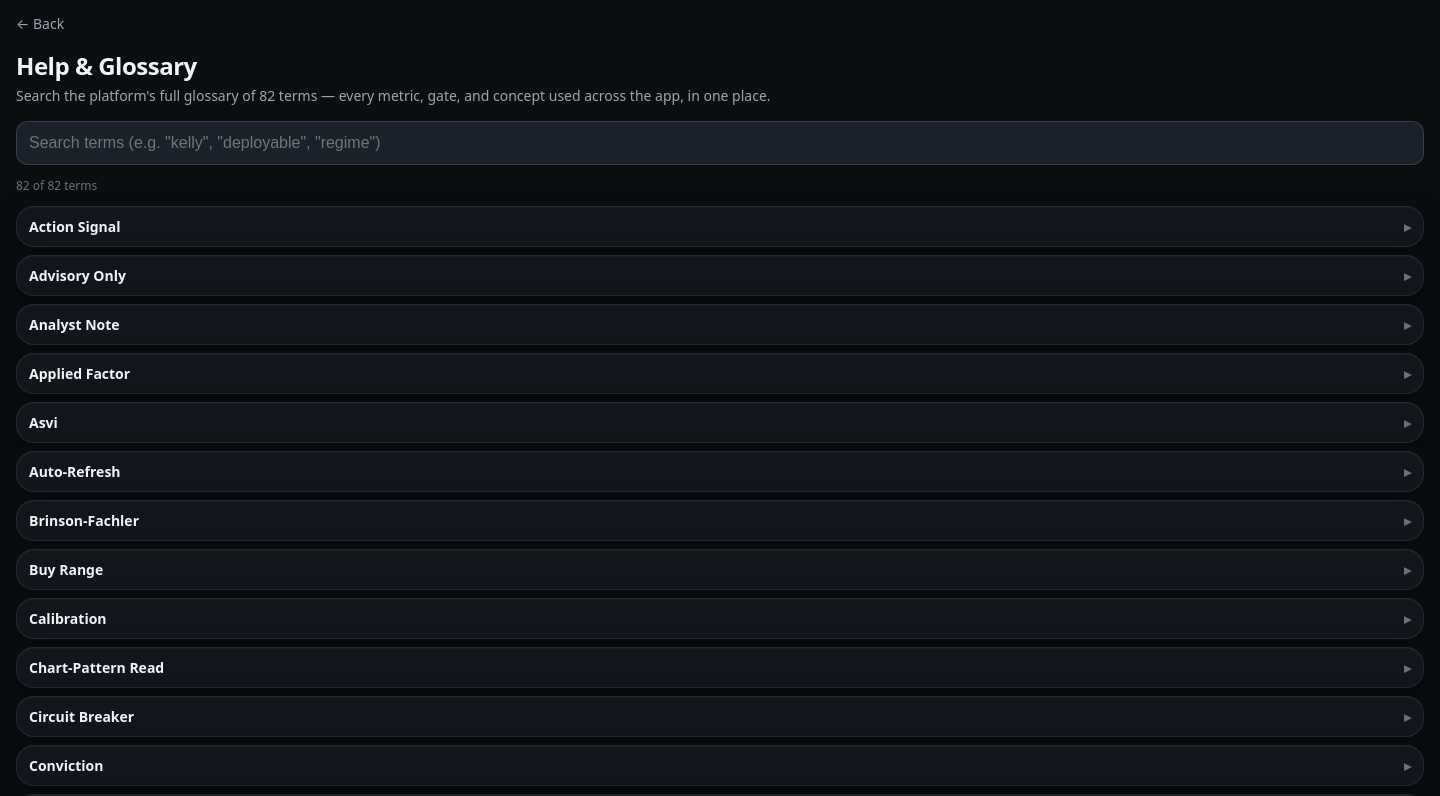
Test: Help screen › filters by a substring of the term itself
The image size is (1440, 796).
Type "kelly" into the search field with test id "help-search" at (720, 143), box [16,121,1424,165]
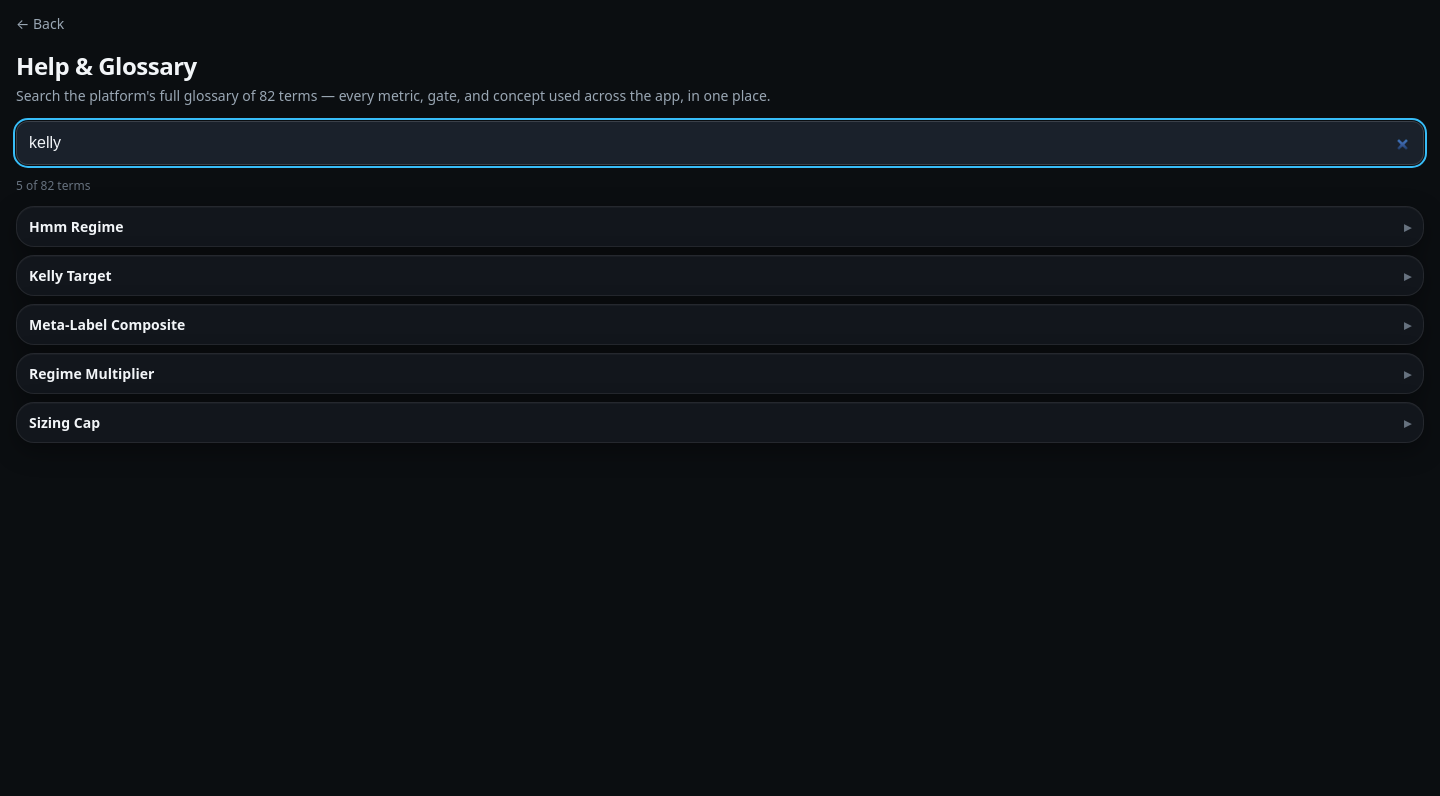
Expected: the button with test id "help-term-kelly target" is shown, [17,256,1423,295]
Expected: the button with test id "help-term-conviction" is gone
